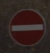No entry: (5, 6, 44, 47)
